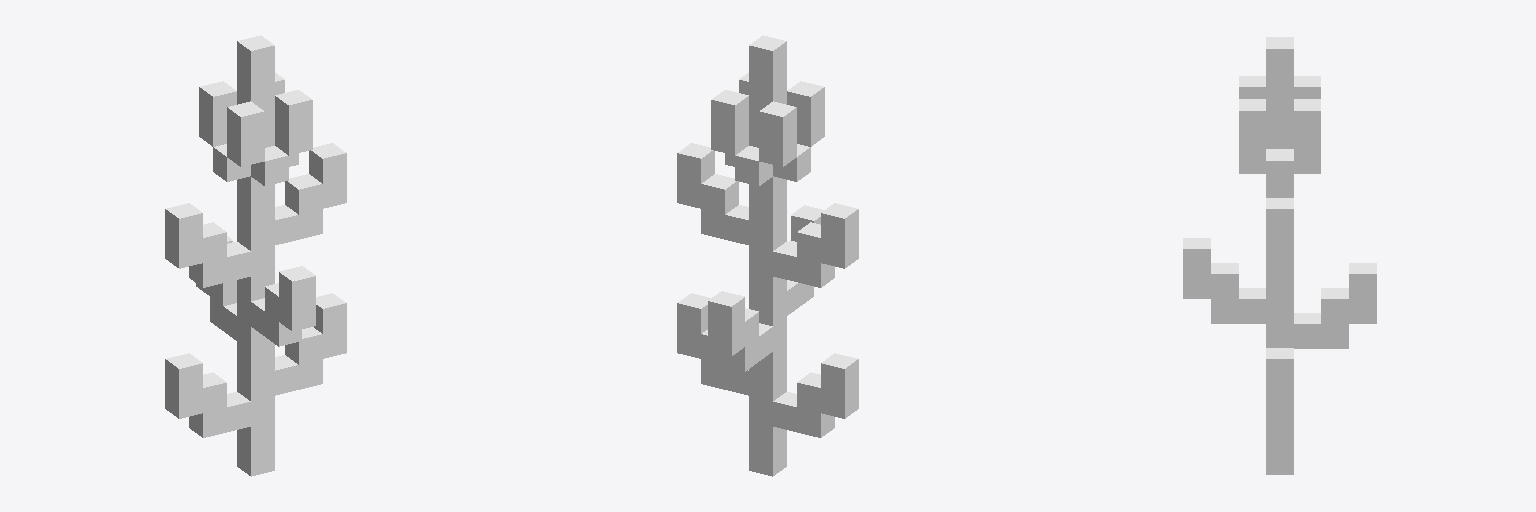
The model's file is farm-32-corn_growth4.obj.
3 views of the same model, side by side, from view 1: azimuth 30°, elevation 25°; view 2: azimuth 150°, elevation 25°; view 3: azimuth 270°, elevation 25° (orthographic).
Parts seen in each view (by area): view 1: corn_growth4; view 2: corn_growth4; view 3: corn_growth4.
Boxes of the visible parts, <box> form: corn_growth4: <box>165,35,346,476</box>; corn_growth4: <box>677,35,858,476</box>; corn_growth4: <box>1183,37,1376,474</box>.
Bounding box in the file's own units: 0.7 × 1.7 × 0.7.